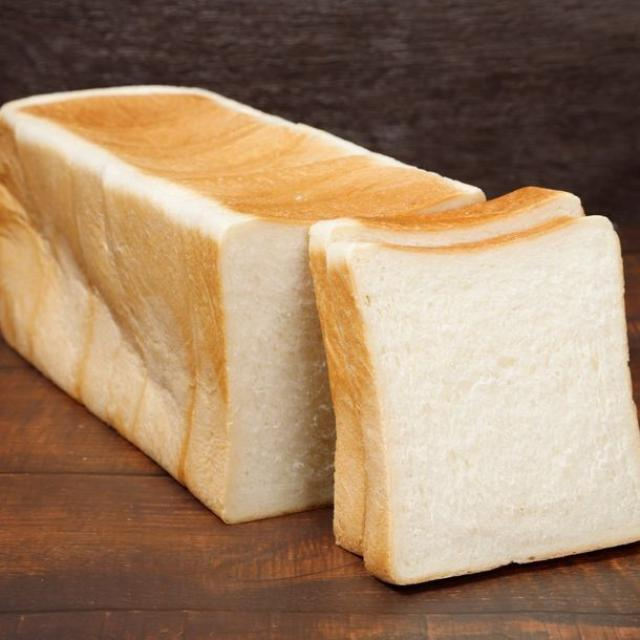sliced_bread: (0, 87, 483, 522), (329, 217, 639, 584), (310, 187, 583, 555)
